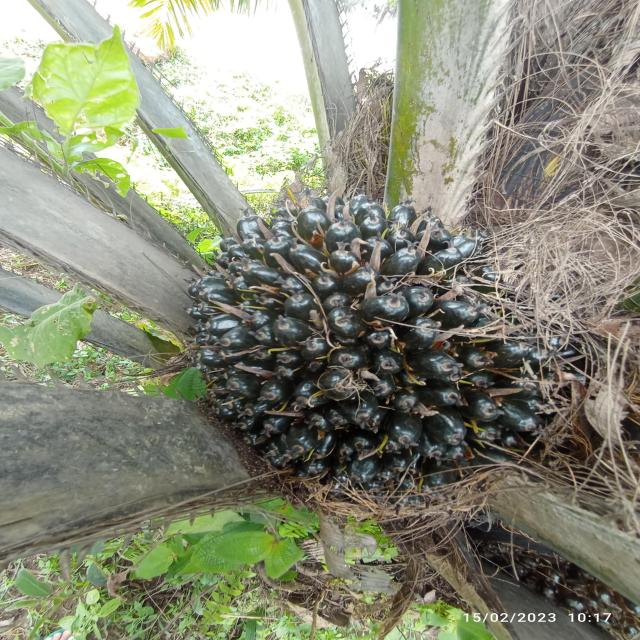fraksi 00: (154, 180, 580, 504)
